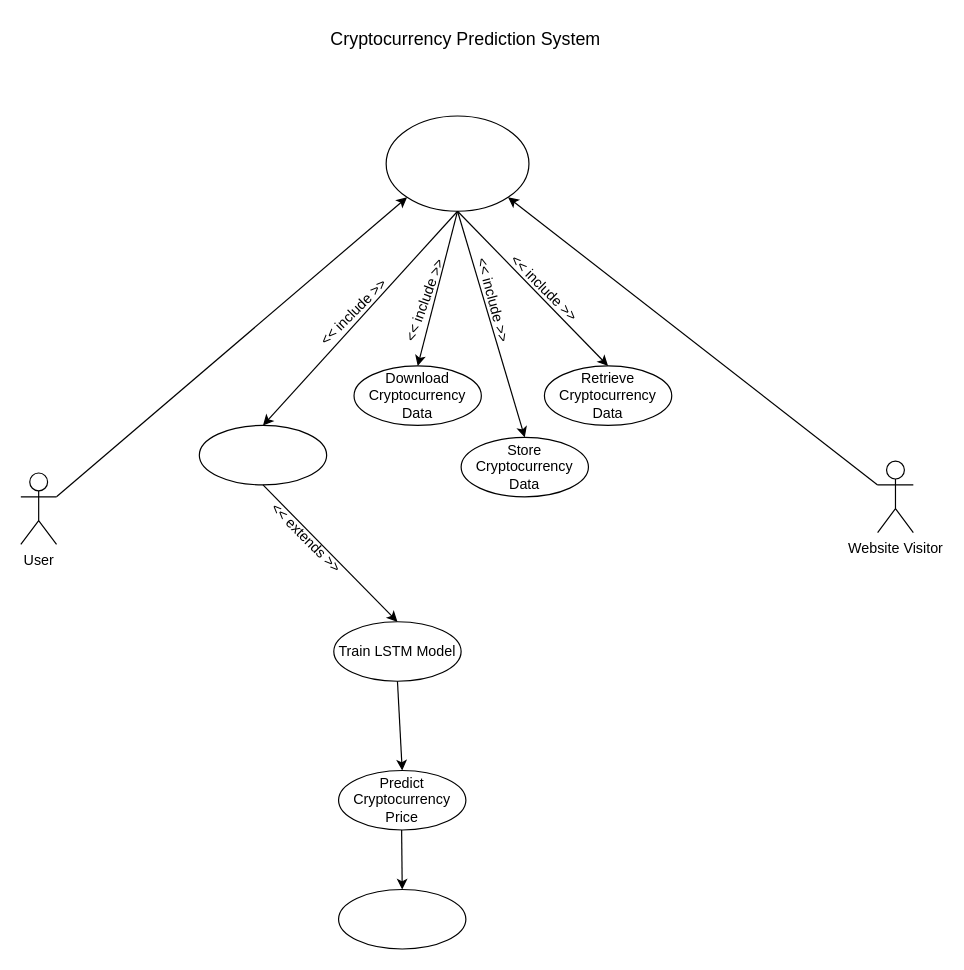
This 964x970 diagram has some shape labels left out. Each missing label, with the box of its shape:
Collect Cryptocurrency Data: (385, 115, 529, 211)
Display Price Prediction: (337, 888, 466, 949)
Normalize Cryptocurrency Data: (198, 424, 327, 485)
